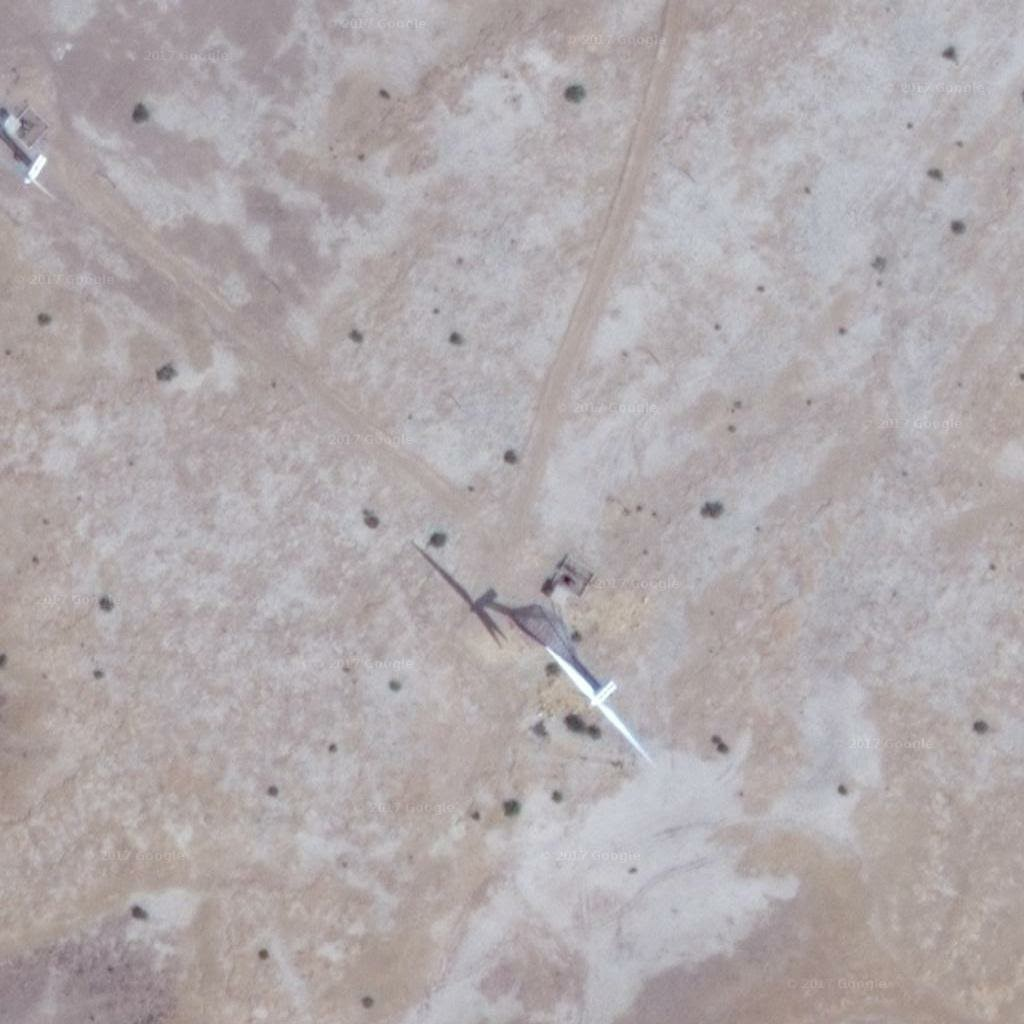Windmill: (409, 531, 598, 682)
